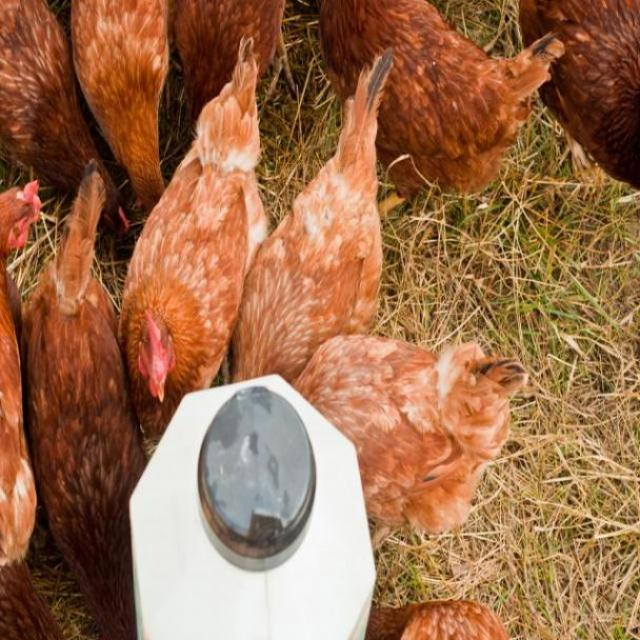Chicken: (0, 0, 639, 639), (7, 162, 150, 636), (319, 0, 559, 217)
